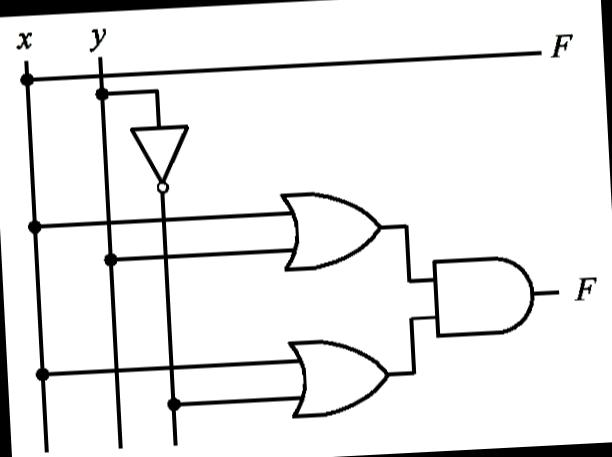and: (424, 244, 542, 346)
not: (117, 105, 199, 208)
or: (272, 180, 392, 275), (281, 330, 398, 424)
